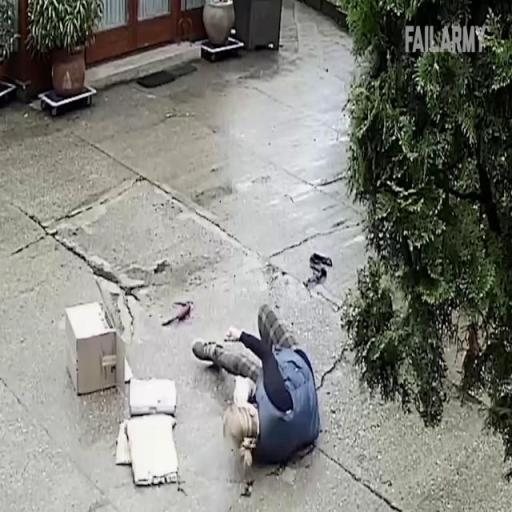Fall: (193, 300, 322, 466)
